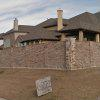Chimney: (53, 5, 66, 33)
